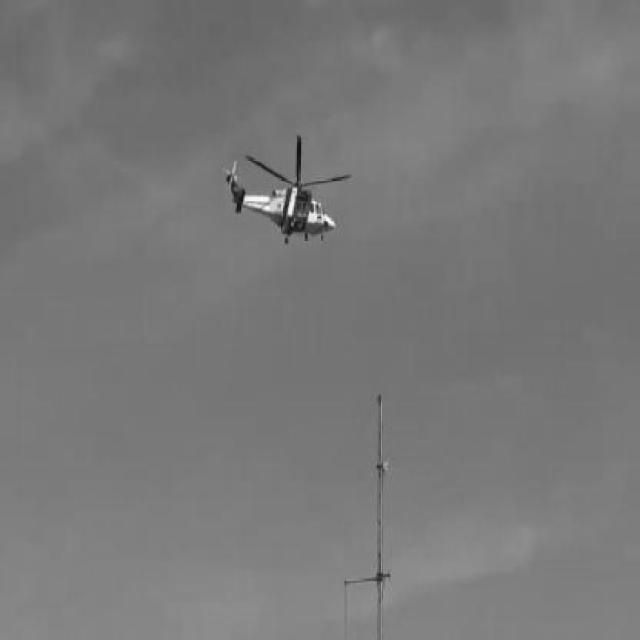helikopter: (223, 132, 352, 243)
